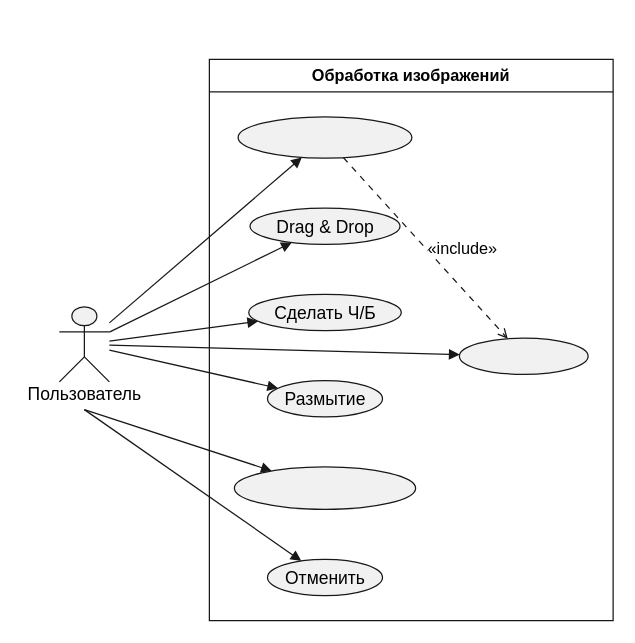
This 635x643 diagram has some shape labels left out. Here are the shapes that lost their labels. From the top down, the centre of each, then its label:
the point at 324,137: Загрузить файл
the point at 523,355: Сохранить
the point at 324,487: Изменить размер
